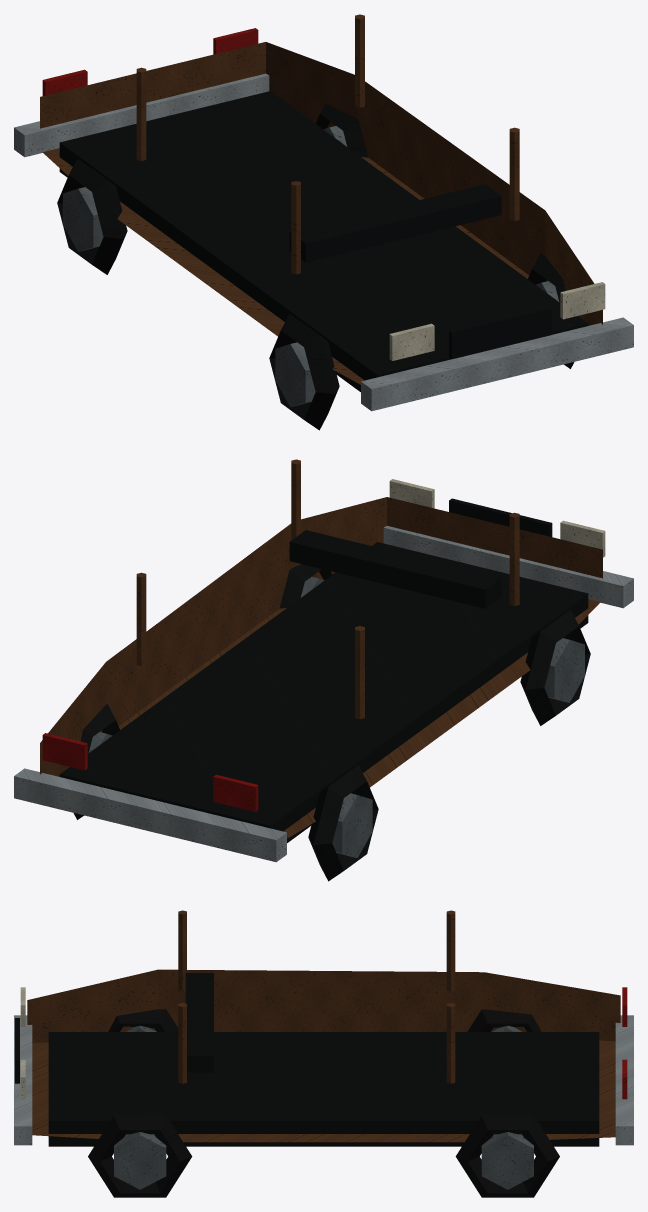
The model's file is PROP-0D9A97D596D8_lod2.glb.
3 renders of one model, top to bottom at view 1: azimuth 30°, elevation 25°; view 2: azimuth 150°, elevation 25°; view 3: azimuth 270°, elevation 25°, orthographic. The views are drawn at different scales.
Parts seen in each view (by area): view 1: chassis.001, shaped_body_panels.001, bumper.001, tire.001, dashboard.001, rim.001, empty_cabin_frame.001, radiator_grille.001, lamp_lenses.002, lamp_lenses.003; view 2: chassis.001, shaped_body_panels.001, bumper.001, tire.001, dashboard.001, rim.001, empty_cabin_frame.001, lamp_lenses.003, lamp_lenses.002, radiator_grille.001; view 3: chassis.001, shaped_body_panels.001, tire.001, rim.001, bumper.001, empty_cabin_frame.001, dashboard.001, lamp_lenses.002, lamp_lenses.003.
Boxes of the visible parts, x1,y1,x2,y2 form: chassis.001: (59,91,588,391); shaped_body_panels.001: (40,42,602,384); bumper.001: (14,73,633,411); tire.001: (57,103,574,430); dashboard.001: (289,184,501,262); rim.001: (63,126,559,407); empty_cabin_frame.001: (136,14,519,274); radiator_grille.001: (449,306,552,359); lamp_lenses.002: (389,282,605,360); lamp_lenses.003: (42,28,258,95); chassis.001: (59,542,588,842); shaped_body_panels.001: (40,497,602,838); bumper.001: (14,526,633,862); tire.001: (73,564,590,881); dashboard.001: (289,530,501,608); rim.001: (88,577,584,858); empty_cabin_frame.001: (136,459,519,719); lamp_lenses.003: (42,733,258,811); lamp_lenses.002: (389,479,605,557); radiator_grille.001: (449,498,552,536); chassis.001: (48,1032,599,1146); shaped_body_panels.001: (27,969,620,1142); tire.001: (88,1009,559,1197); rim.001: (114,1025,533,1189); bumper.001: (14,1015,633,1145); empty_cabin_frame.001: (178,910,455,1083); dashboard.001: (185,973,213,1072); lamp_lenses.002: (20,987,25,1099); lamp_lenses.003: (622,987,627,1099).
Bounding box in the file's own units: 1.98 × 1.45 × 4.39.
Materials: 7 (7 with a texture image).
